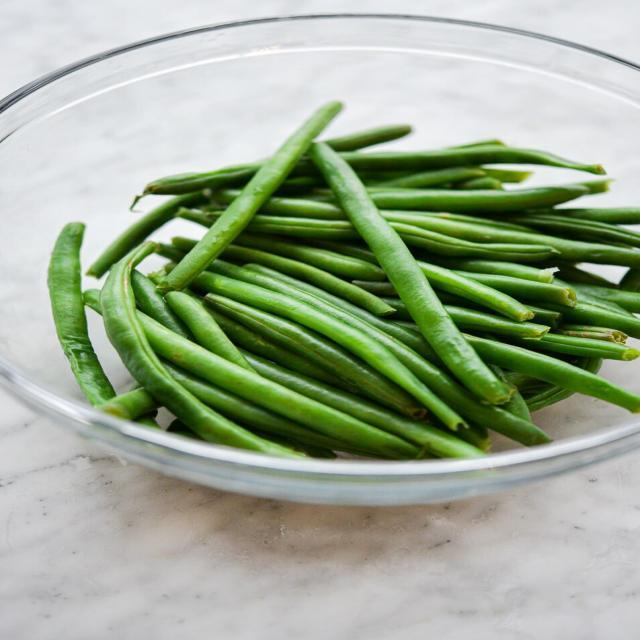Beans: (24, 84, 639, 472)
